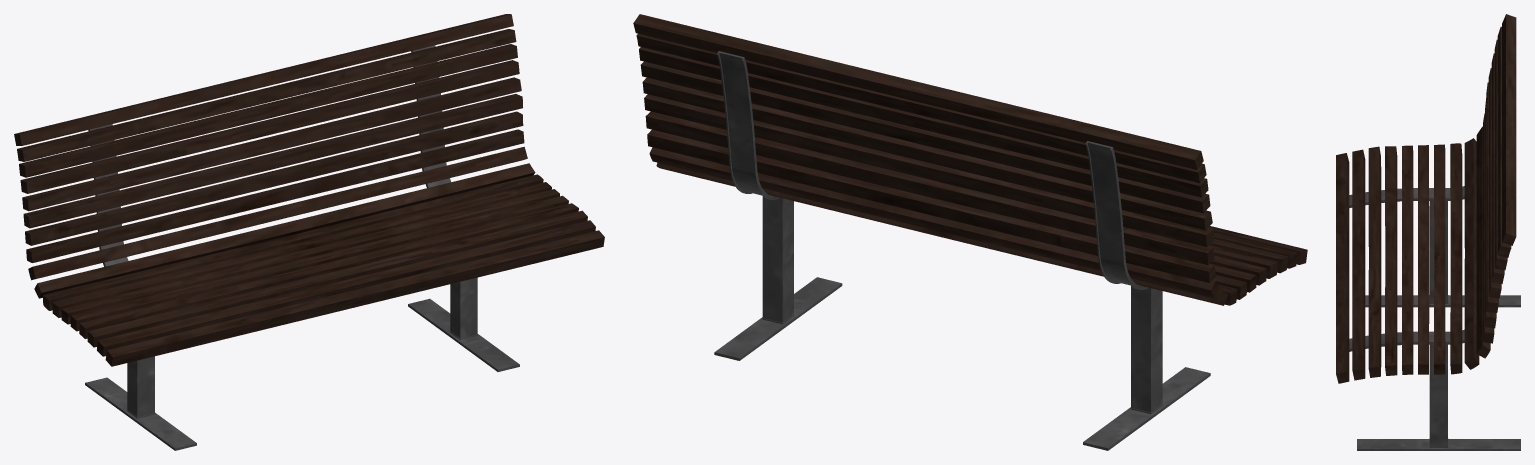
The model's file is bench.med.glb.
3 views of the same model, side by side, from view 1: azimuth 30°, elevation 25°; view 2: azimuth 150°, elevation 25°; view 3: azimuth 270°, elevation 25° (orthographic). The views are drawn at different scales.
Visible parts, largest first — view 1: wood, frame; view 2: wood, frame; view 3: wood, frame.
Part boxes in pixels (x1=…): wood: x1=14, y1=14, x2=604, y2=366; frame: x1=85, y1=45, x2=519, y2=450; wood: x1=633, y1=14, x2=1307, y2=305; frame: x1=714, y1=51, x2=1210, y2=450; wood: x1=1336, y1=14, x2=1516, y2=383; frame: x1=1349, y1=186, x2=1520, y2=450.
Bounding box in the file's own units: 1.55 × 0.82 × 0.5483.
2 materials, 2 textured.
